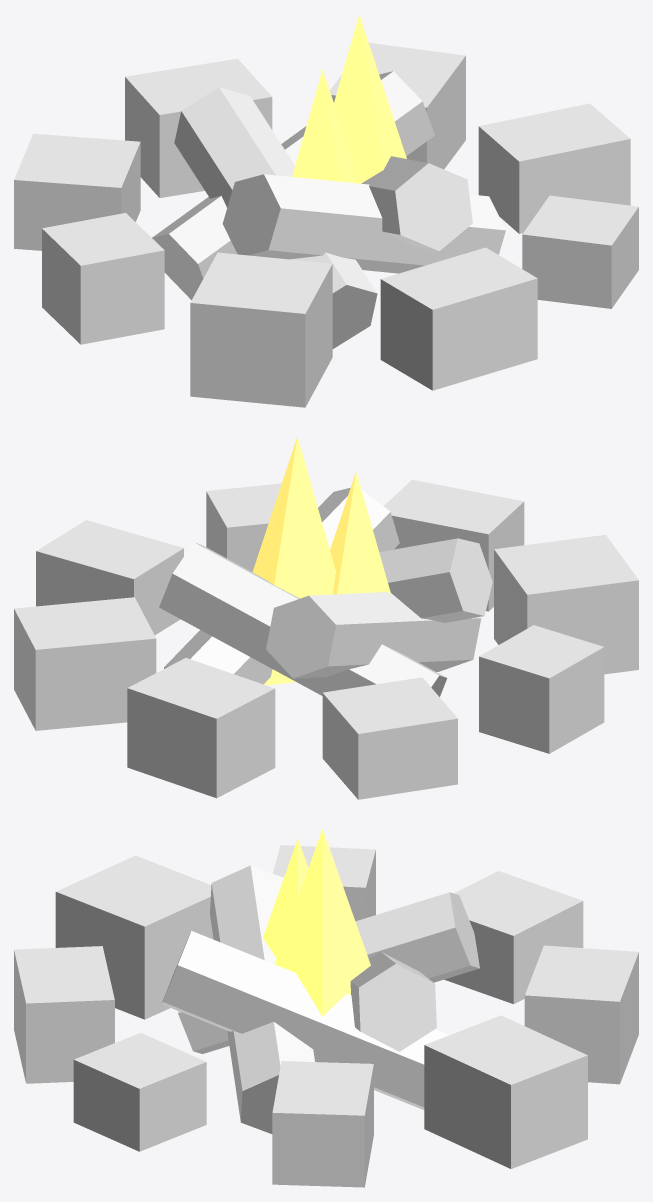
Rendered from campfire_lit.glb.
3 renders of one model, top to bottom at view 1: azimuth 30°, elevation 25°; view 2: azimuth 150°, elevation 25°; view 3: azimuth 270°, elevation 25°, orthographic. The views are drawn at different scales.
Visible parts, largest first — view 1: campfire_lit; view 2: campfire_lit; view 3: campfire_lit.
Boxes of the visible parts, x1,y1,x2,y2 form: campfire_lit: (14,14,638,407); campfire_lit: (14,436,638,799); campfire_lit: (14,829,638,1187).
Bounding box in the file's own units: 0.8558 × 0.3998 × 0.8454.
